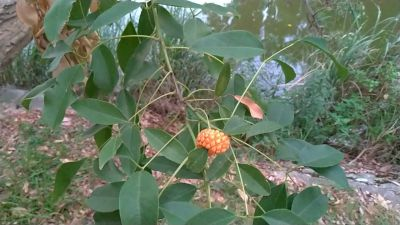eggs: (194, 122, 231, 157)
